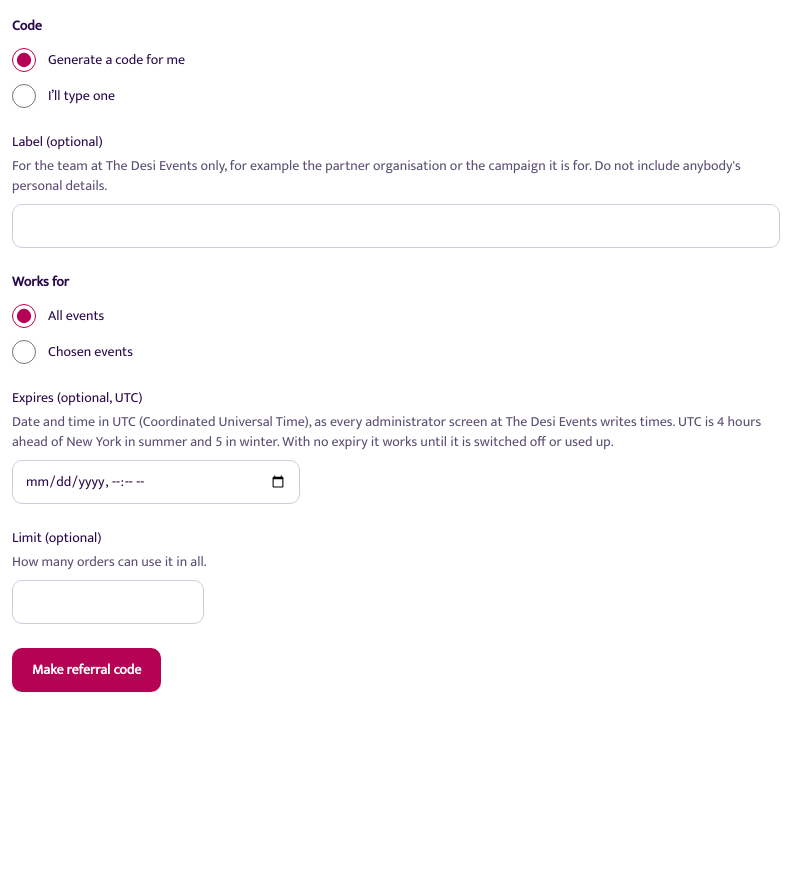
Test: making a referral code › asks for at least one event when the code is for chosen events
Click the radio button labelled "Chosen events". click: click(24, 352)
box: x1=12 y1=340 x2=36 y2=364
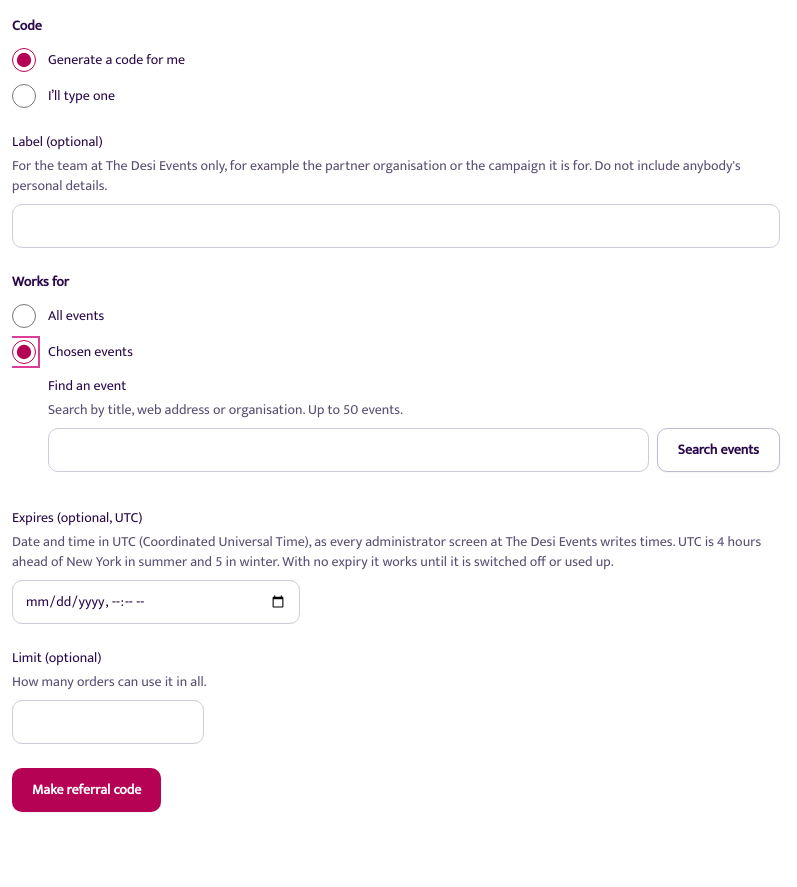
Click the button "Make referral code". click: click(87, 790)
box: x1=12 y1=768 x2=161 y2=812
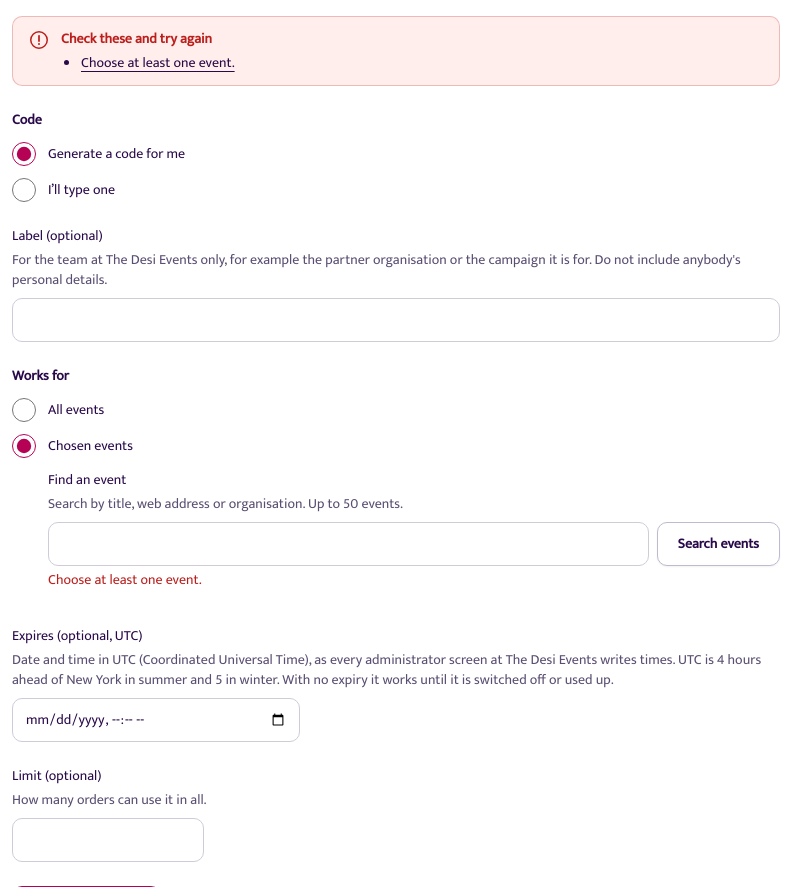
Now the link "Choose at least one event." is shown, box x1=81 y1=51 x2=235 y2=74
